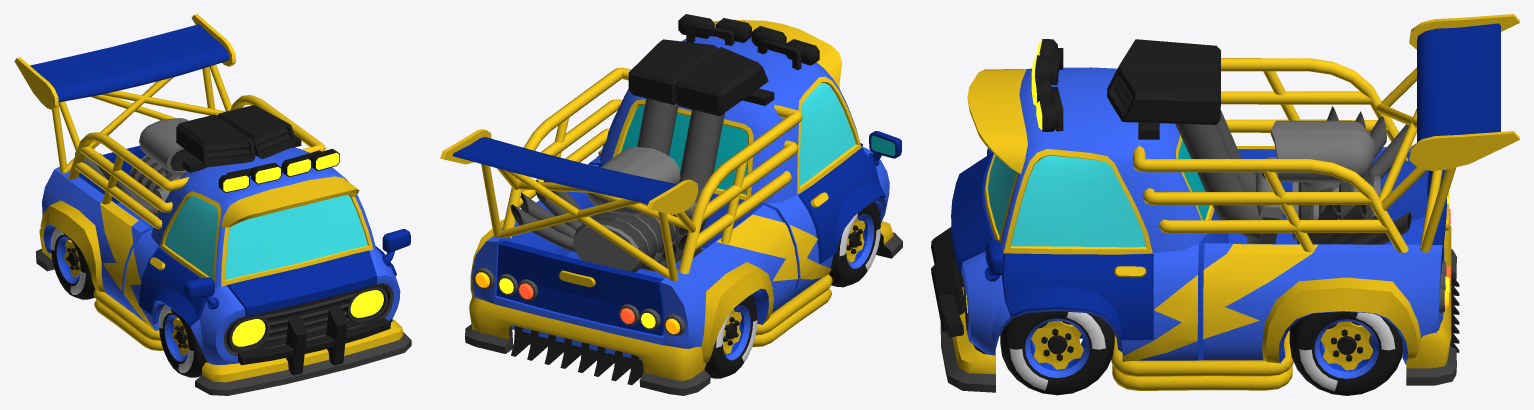
Rendered from SVehicle011.fbx.
3 renders of one model, left to right at view 1: azimuth 30°, elevation 25°; view 2: azimuth 150°, elevation 25°; view 3: azimuth 270°, elevation 25°, orthographic. The views are drawn at different scales.
Visible parts, largest first — view 1: SVehicle011, SV011_FR, SV011_BR; view 2: SVehicle011, SV011_FR, SV011_BR; view 3: SVehicle011, SV011_FL, SV011_BL.
Part boxes in pixels (bbox=[...]): SVehicle011: bbox=[14, 14, 411, 395]; SV011_FR: bbox=[158, 304, 208, 377]; SV011_BR: bbox=[50, 227, 95, 299]; SVehicle011: bbox=[440, 14, 902, 395]; SV011_FR: bbox=[829, 201, 880, 287]; SV011_BR: bbox=[704, 294, 757, 378]; SVehicle011: bbox=[931, 14, 1519, 392]; SV011_FL: bbox=[1000, 311, 1114, 395]; SV011_BL: bbox=[1289, 311, 1403, 395].
Size of the model in its own units: 261 by 222 by 440.
1 material, 1 textured.
